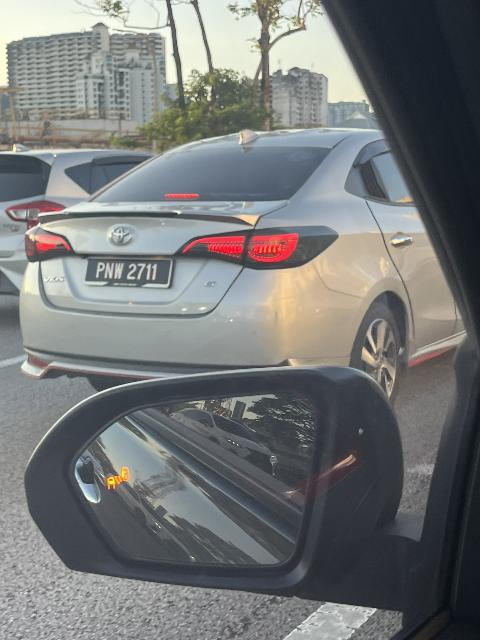License_Plate: (79, 252, 181, 300)
car: (33, 124, 480, 402)
